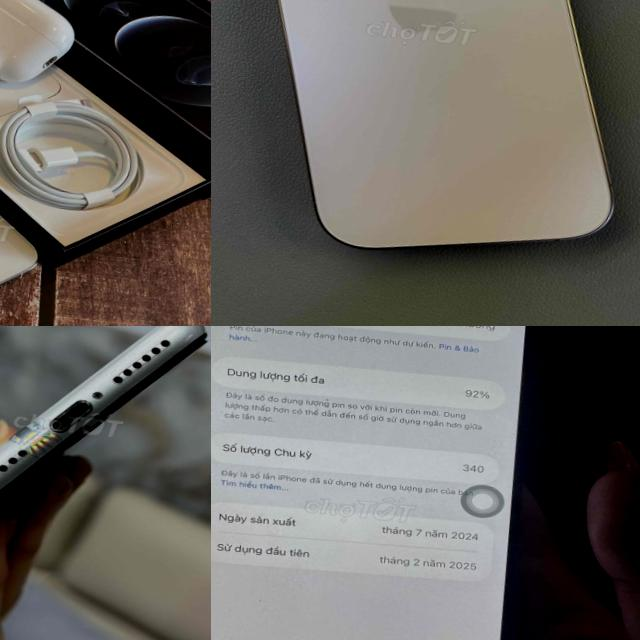gen_12_13: (0, 64, 58, 326)
gen_15: (211, 326, 561, 640)
gen_16: (278, 0, 612, 247)
gen_7_8: (0, 326, 211, 559)
scratch: (155, 326, 206, 343)
